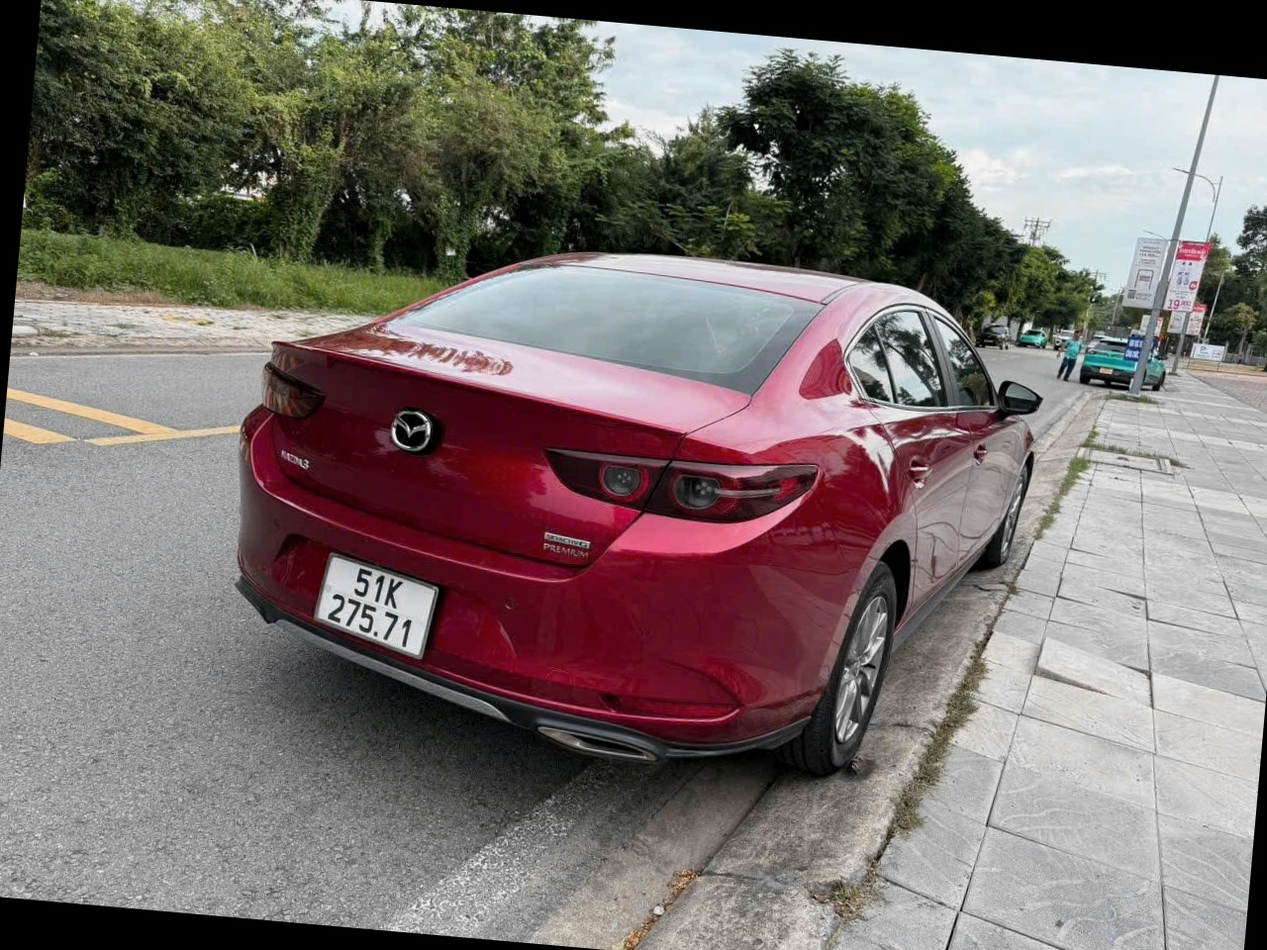Bien-so: (308, 556, 443, 657)
